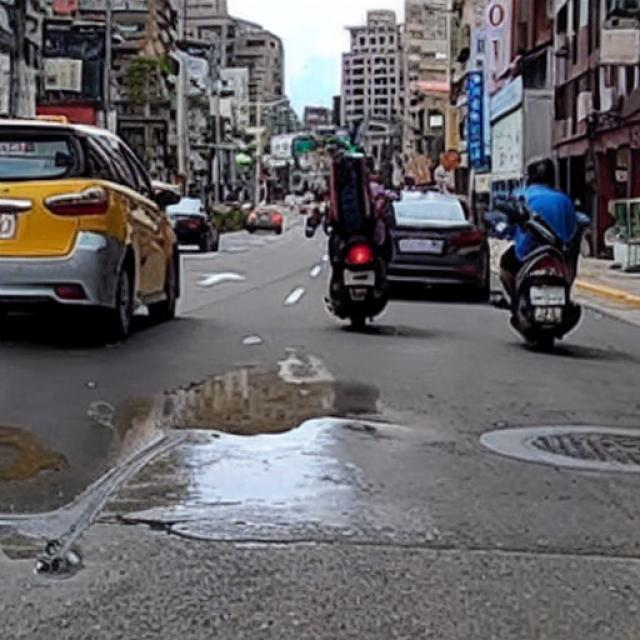puddle: (94, 361, 380, 538)
